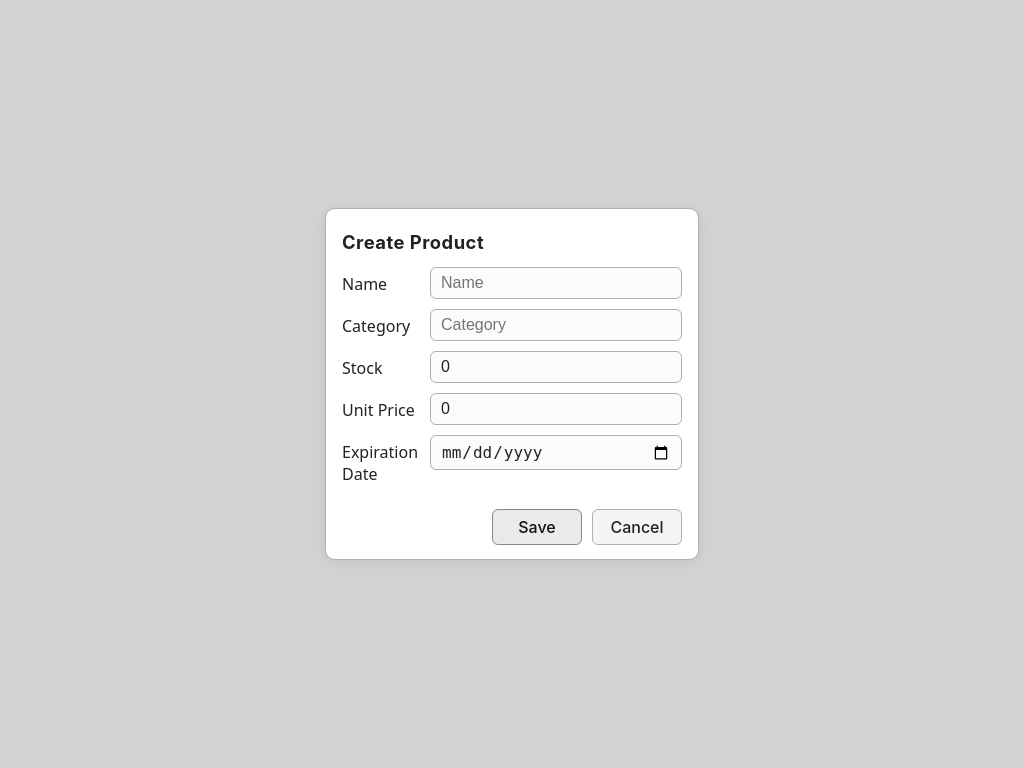
Scenario: ProductModal › displays validation errors if fields are empty and you try to save
Click the button "Save" at [537, 527], box [492, 509, 582, 545]
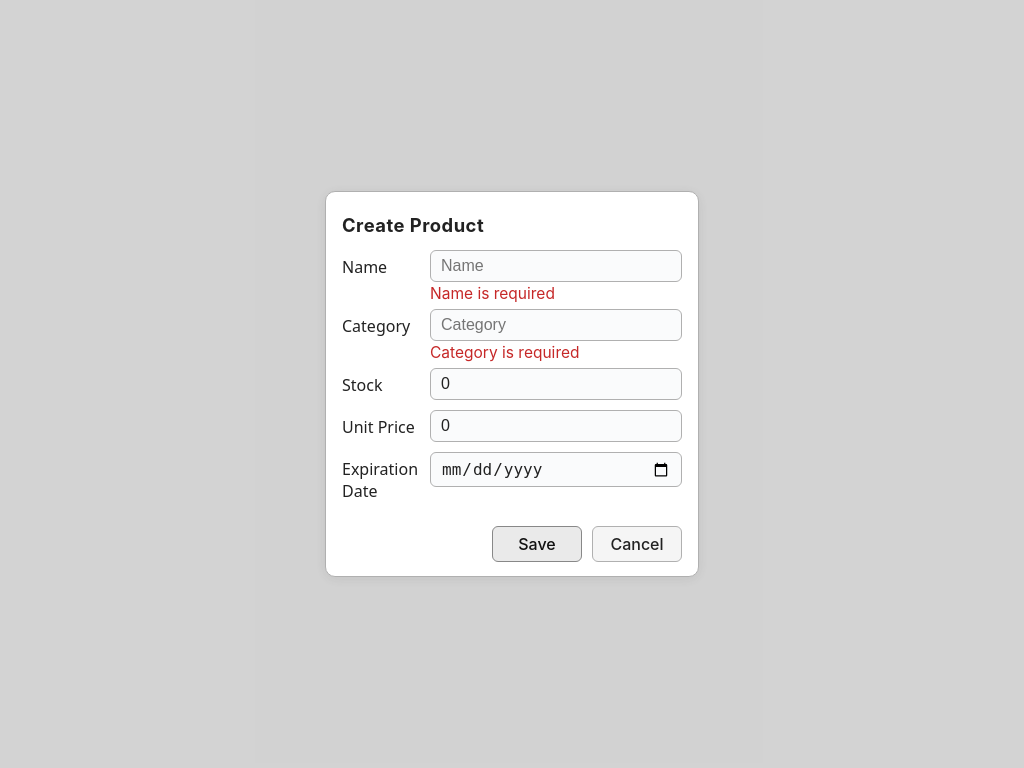
Expected: the text "Name is required" is shown, [430, 284, 555, 303]
Expected: the text "Category is required" is shown, [430, 343, 580, 362]
